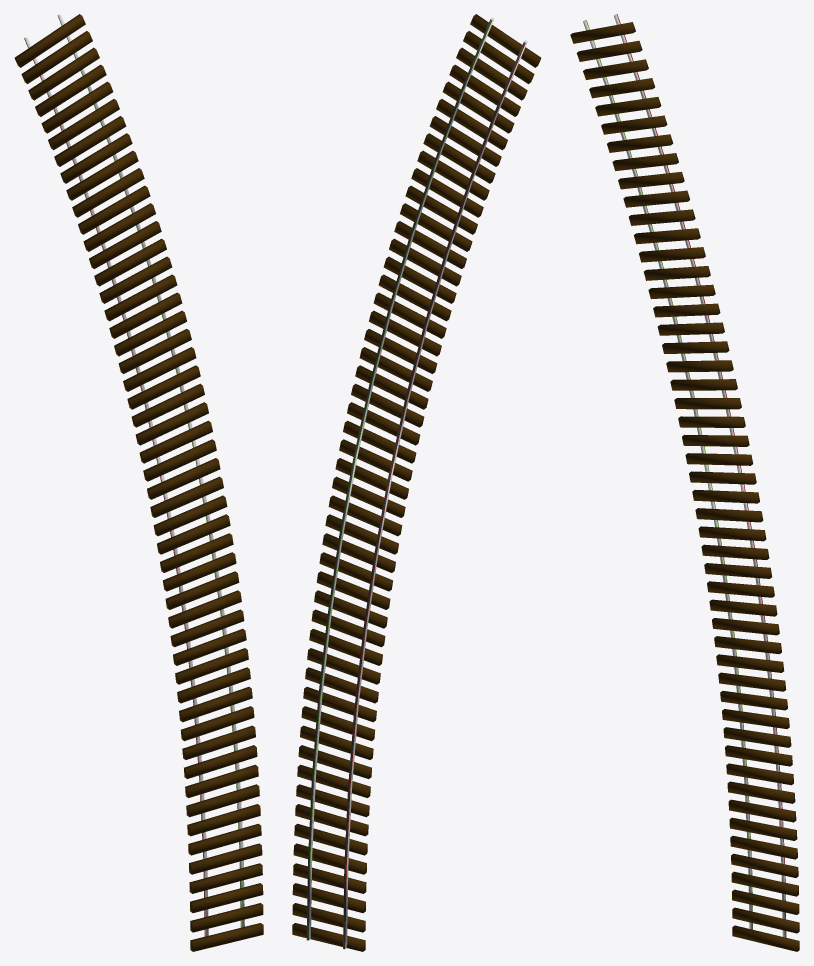
Rendered from Rails_40m_22_5d.fbx.
3 renders of one model, left to right at view 1: azimuth 30°, elevation 25°; view 2: azimuth 150°, elevation 25°; view 3: azimuth 330°, elevation 25°, orthographic. The views are drawn at different scales.
Parts seen in each view (by area): view 1: LP_Rails_40m_22_5d; view 2: LP_Rails_40m_22_5d; view 3: LP_Rails_40m_22_5d.
Boxes of the visible parts, bbox=[...] form: LP_Rails_40m_22_5d: bbox=[14, 14, 263, 951]; LP_Rails_40m_22_5d: bbox=[292, 14, 541, 951]; LP_Rails_40m_22_5d: bbox=[570, 14, 799, 951].
Bounding box in the file's own units: 10.49 × 39.3 × 0.34.
